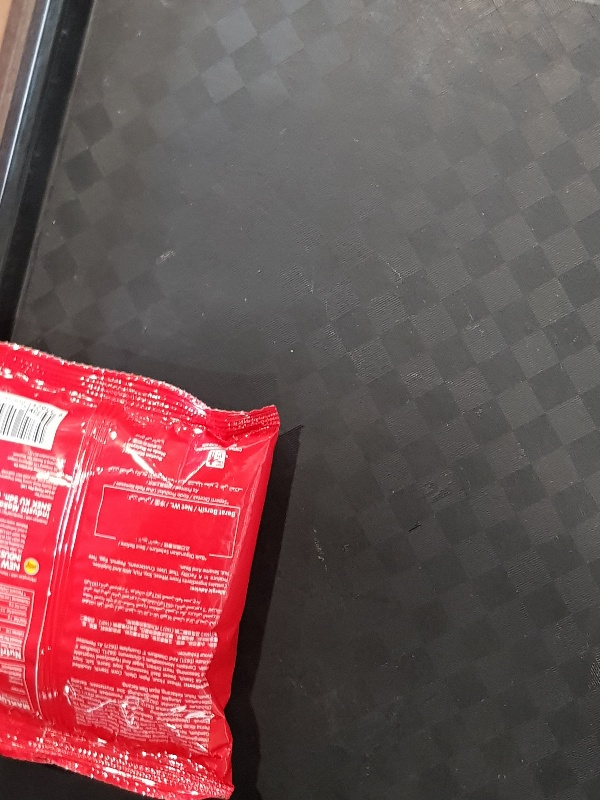ShoyueMi Spicy Flavoured Snacks: (1, 339, 281, 800)
